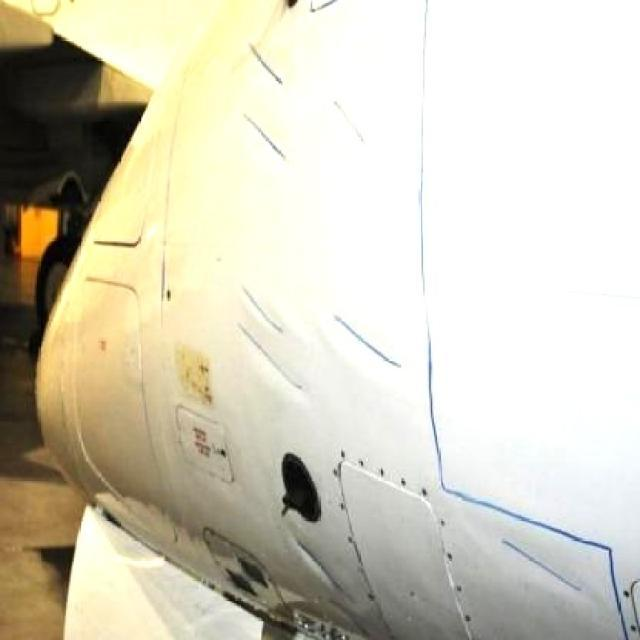dent: (487, 532, 592, 605), (235, 326, 312, 392), (333, 312, 407, 372), (247, 112, 303, 169), (304, 552, 353, 605), (238, 273, 284, 329), (243, 35, 289, 90)
